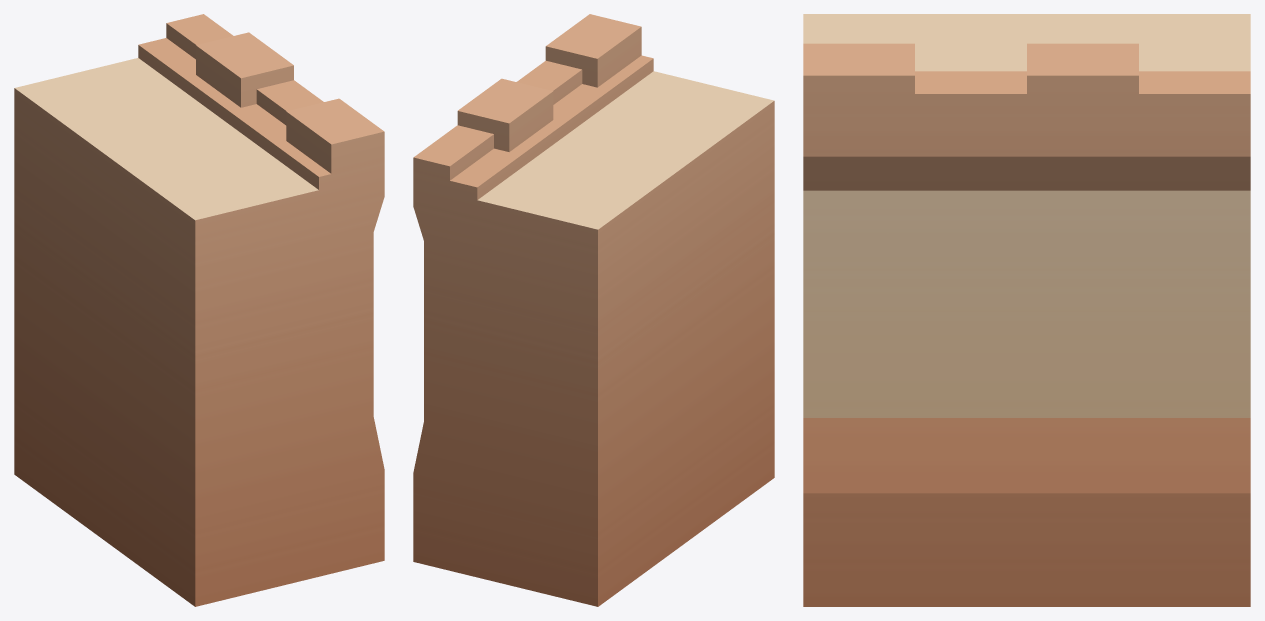
The model's file is wall-half-modular.obj.
3 views of the same model, side by side, from view 1: azimuth 30°, elevation 25°; view 2: azimuth 150°, elevation 25°; view 3: azimuth 270°, elevation 25° (orthographic). The views are drawn at different scales.
Parts seen in each view (by area): view 1: wall-half-modular; view 2: wall-half-modular; view 3: wall-half-modular.
Boxes of the visible parts, box(x1,y1,x2,y2) form: wall-half-modular: box(14, 14, 384, 606); wall-half-modular: box(413, 14, 774, 606); wall-half-modular: box(803, 14, 1250, 606).
Size of the model in its own units: 0.6046 by 1.31 by 1.
1 material, 1 textured.
